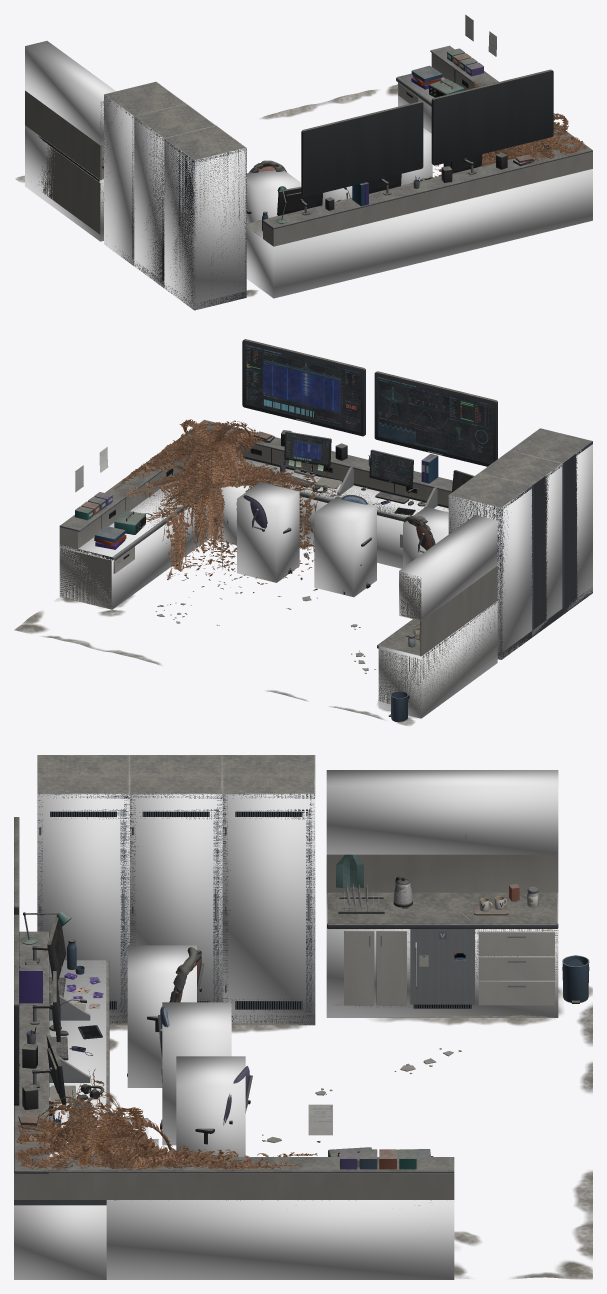
The model's file is props_signals.glb.
The picture shows the model from 3 angles, top to bottom: view 1: azimuth 30°, elevation 25°; view 2: azimuth 150°, elevation 25°; view 3: azimuth 270°, elevation 25°; orthographic projection. The views are drawn at different scales.
Visible parts, largest first — view 1: console_desk, col_console_desk_1, col_rack_3, dust_top, kitchenette, col_kitchenette_shelf, rack_3, col_rack_1, col_rack_2, rack_2, col_kitchenette, fern_dead (+5 smaller); view 2: dust_top, console_desk, fern_dead, kitchenette, col_kitchenette, em_screen_wall_1, em_screen_wall_2, col_console_desk_2, col_rack_1, col_kitchenette_shelf, col_chair_blue, col_chair_violet (+11 smaller); view 3: kitchenette, console_desk, dust_top, col_console_desk_2, col_rack_1, col_kitchenette_shelf, col_rack_3, col_rack_2, col_console_desk_1, fern_dead, rack_1, col_chair_violet (+8 smaller).
Part boxes in pixels (x1,y1,x2,y2): console_desk: (246, 45, 592, 246); col_console_desk_1: (246, 169, 592, 298); col_rack_3: (164, 127, 246, 310); dust_top: (102, 45, 592, 227); kitchenette: (25, 90, 103, 234); col_kitchenette_shelf: (25, 41, 115, 145); rack_3: (164, 126, 246, 309); col_rack_1: (104, 84, 183, 265); col_rack_2: (134, 105, 215, 287); rack_2: (134, 104, 214, 287); col_kitchenette: (25, 125, 103, 241); fern_dead: (410, 81, 587, 183); dust_top: (60, 339, 592, 715); console_desk: (59, 339, 497, 608); fern_dead: (115, 419, 342, 625); kitchenette: (377, 566, 497, 721); col_kitchenette: (378, 601, 497, 718); em_screen_wall_1: (245, 344, 361, 432); em_screen_wall_2: (377, 376, 493, 464); col_console_desk_2: (59, 474, 209, 609); col_rack_1: (448, 474, 531, 659); col_kitchenette_shelf: (399, 515, 497, 621); col_chair_blue: (314, 496, 376, 597); col_chair_violet: (237, 482, 299, 582); kitchenette: (326, 835, 589, 1008); console_desk: (14, 817, 454, 1205); dust_top: (14, 755, 589, 1171); col_console_desk_2: (106, 1200, 454, 1279); col_rack_1: (222, 755, 315, 1025); col_kitchenette_shelf: (326, 770, 558, 854); col_rack_3: (37, 756, 129, 1024); col_rack_2: (130, 757, 222, 1002); col_console_desk_1: (14, 960, 106, 1279); fern_dead: (15, 1069, 320, 1170); rack_1: (222, 755, 315, 1025); col_chair_violet: (176, 1056, 245, 1156).
Size of the model in its own units: 6 by 2.35 by 5.
16 materials, 12 textured.
